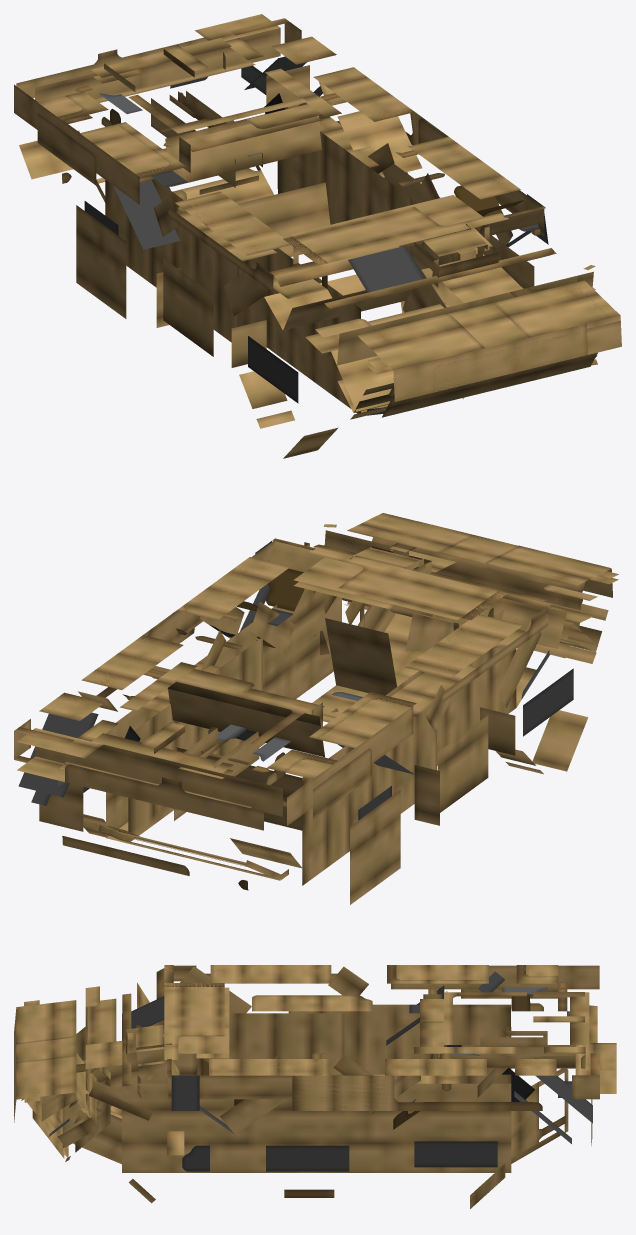
File: amx10.obj
3 views of the same model, one above another, from view 1: azimuth 30°, elevation 25°; view 2: azimuth 150°, elevation 25°; view 3: azimuth 270°, elevation 25° (orthographic). The views are drawn at different scales.
Visible parts, largest first — view 1: body, w1, w3, w2; view 2: body, w1, w2, w3; view 3: body, w6, w5, w4.
Part boxes in pixels (box(x1,y1,x2,y2)): body: box(14, 14, 621, 419); w1: box(231, 320, 338, 458); w3: box(76, 201, 126, 318); w2: box(156, 258, 213, 356); body: box(14, 513, 618, 890); w1: box(480, 668, 588, 774); w2: box(414, 715, 488, 825); w3: box(350, 786, 400, 904); body: box(14, 965, 616, 1172); w6: box(414, 1141, 505, 1208); w5: box(266, 1145, 349, 1197); w4: box(129, 1145, 209, 1203).
Size of the model in its own units: 3.64 by 2.36 by 8.19.
